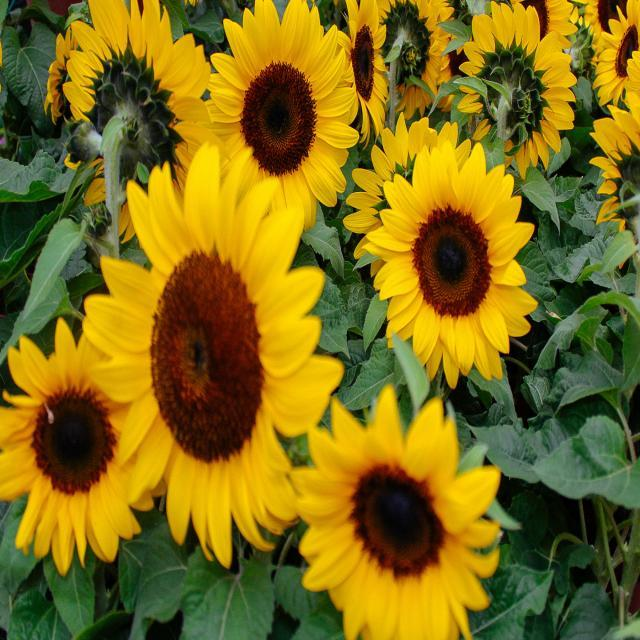sunflower: (81, 140, 345, 569), (290, 383, 502, 639), (362, 138, 538, 388), (0, 315, 166, 576), (59, 0, 212, 244), (204, 0, 360, 231), (457, 0, 577, 178), (342, 111, 470, 276), (376, 0, 454, 119), (589, 89, 640, 269), (334, 0, 389, 152), (592, 0, 640, 107), (434, 20, 480, 109), (43, 24, 83, 126), (510, 0, 578, 49), (583, 0, 631, 66)
